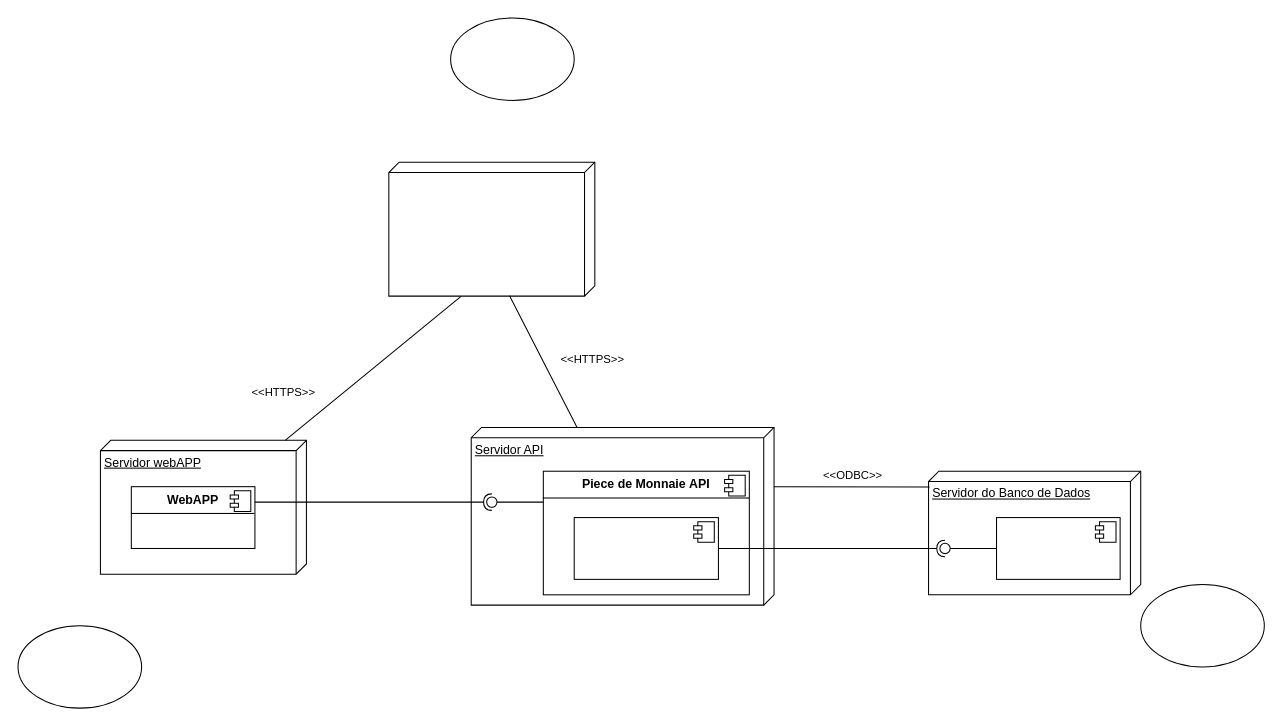
Image size: 1282x726. Some labels were removed from this diagram. The centre of each missing label's shape, as x and y in pixels:
Cliente: Browser: [491,228]
Repository: [645,548]
SGBD: [1057,548]
